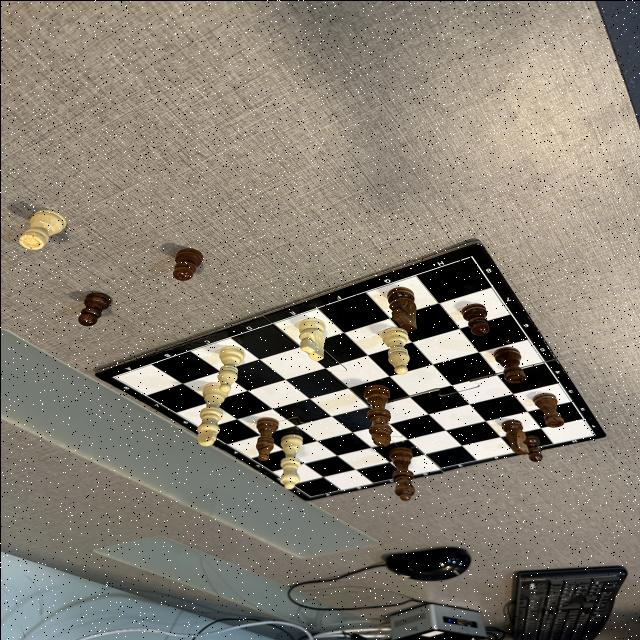Black-Bishop: (255, 416, 278, 461)
Black-King: (362, 384, 392, 446)
Black-Knight: (386, 286, 416, 331), (500, 418, 528, 454)
Black-Pawn: (77, 291, 111, 326), (172, 248, 202, 280), (460, 303, 489, 335), (526, 434, 542, 462)
Black-Queen: (387, 446, 415, 500)
Black-Rook: (492, 346, 526, 383), (532, 392, 564, 427)
White-Bishop: (216, 344, 244, 392), (381, 326, 408, 374)
White-King: (195, 390, 228, 446)
White-Knight: (297, 317, 325, 361)
White-Queen: (278, 433, 302, 489)
White-Rook: (17, 208, 66, 249)
